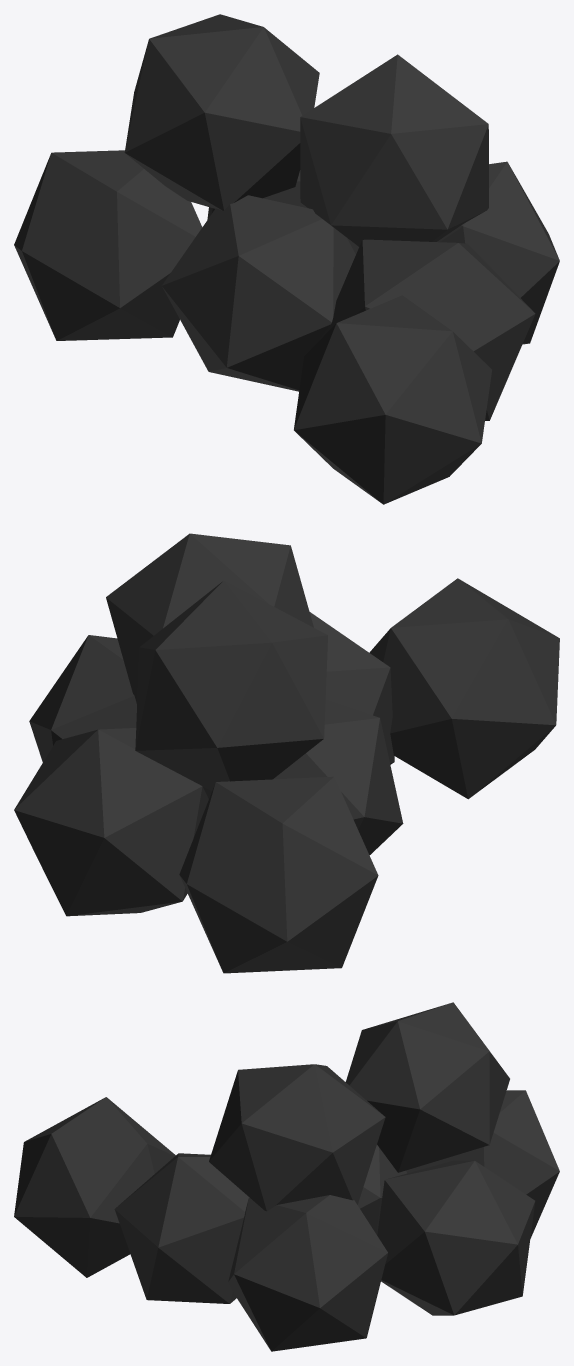
File: CannonballMound.fbx
The picture shows the model from 3 angles, top to bottom: view 1: azimuth 30°, elevation 25°; view 2: azimuth 150°, elevation 25°; view 3: azimuth 270°, elevation 25°; orthographic projection. The views are drawn at different scales.
Visible parts, largest first — view 1: CannonballMound; view 2: CannonballMound; view 3: CannonballMound.
Boxes of the visible parts, x1=… form: CannonballMound: x1=14, y1=14, x2=559, y2=504; CannonballMound: x1=14, y1=533, x2=559, y2=973; CannonballMound: x1=14, y1=1002, x2=559, y2=1351.
Size of the model in its own units: 1.4 by 1 by 1.84.
